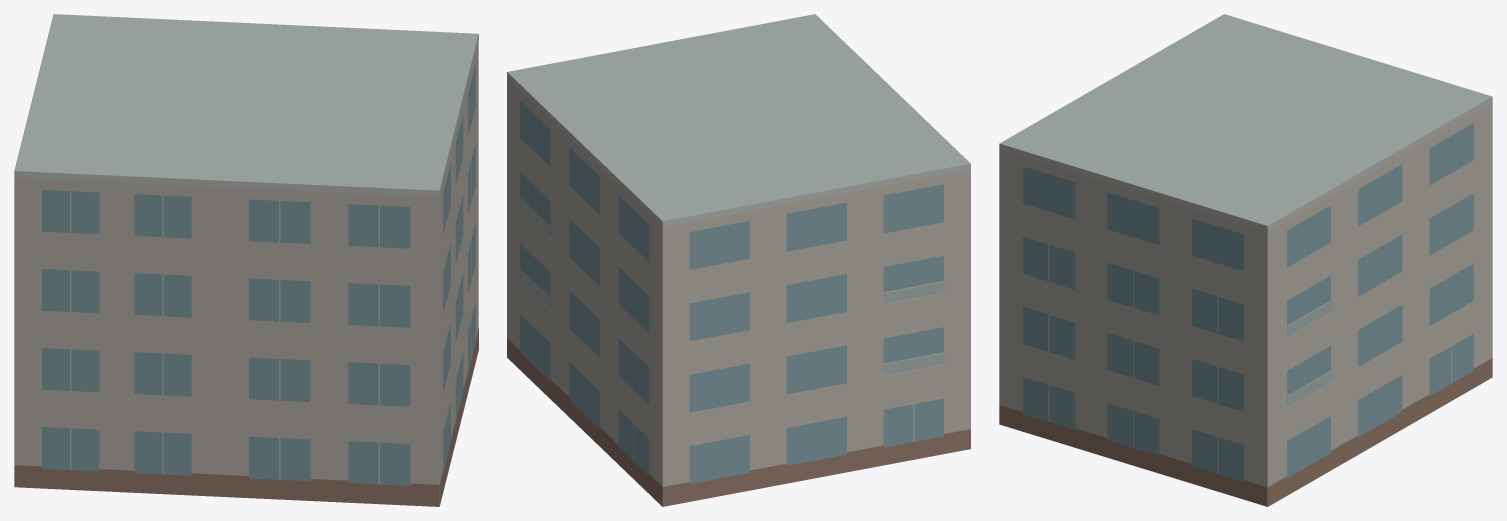
The model's file is survey-upis-33026955.glb.
3 renders of one model, left to right at view 1: azimuth 30°, elevation 25°; view 2: azimuth 150°, elevation 25°; view 3: azimuth 270°, elevation 25°, orthographic. The views are drawn at different scales.
Visible parts, largest first — view 1: survey-upis-33026955.tmp; view 2: survey-upis-33026955.tmp; view 3: survey-upis-33026955.tmp.
Boxes of the visible parts, left/top/right/bottom form: survey-upis-33026955.tmp: left=14, top=14, right=478, bottom=506; survey-upis-33026955.tmp: left=507, top=14, right=970, bottom=506; survey-upis-33026955.tmp: left=999, top=14, right=1492, bottom=506.
Bounding box in the file's own units: 18.95 × 11.7 × 18.62.
